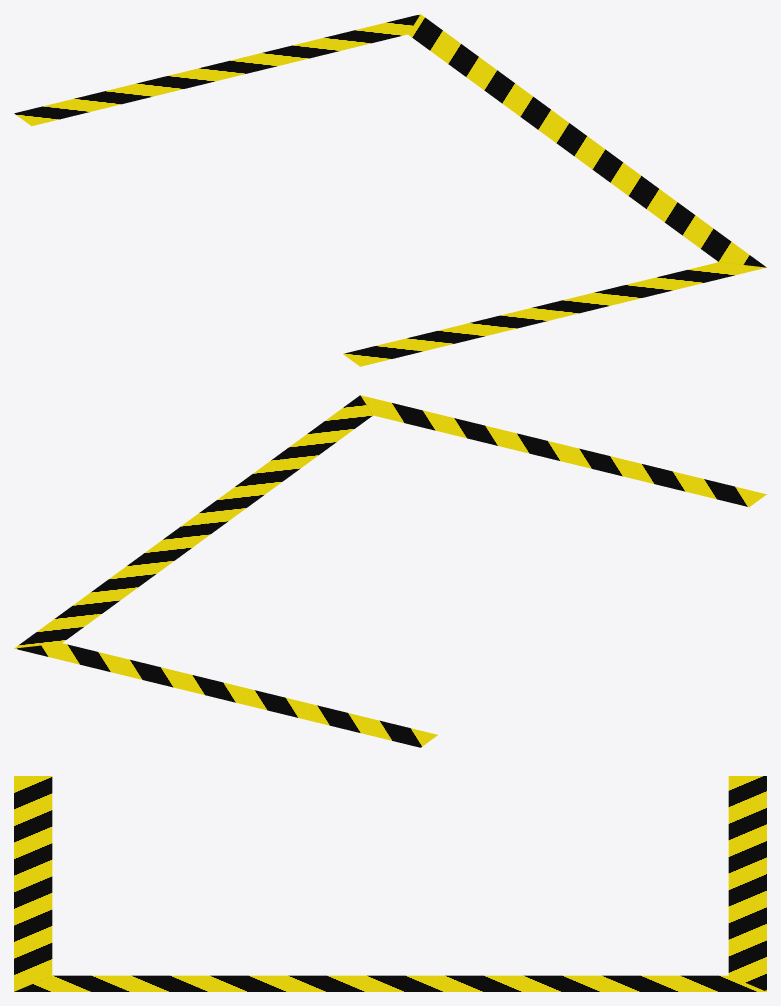
3 renders of one model, top to bottom at view 1: azimuth 30°, elevation 25°; view 2: azimuth 150°, elevation 25°; view 3: azimuth 270°, elevation 25°, orthographic. The views are drawn at different scales.
Visible parts, largest first — view 1: SM_标线001; view 2: SM_标线001; view 3: SM_标线001.
Boxes of the visible parts, x1,y1,x2,y2 form: SM_标线001: (14,14,766,366); SM_标线001: (14,395,766,747); SM_标线001: (14,776,766,991).
Size of the model in its own units: 0.8527 by 5.5e-08 by 1.26.
